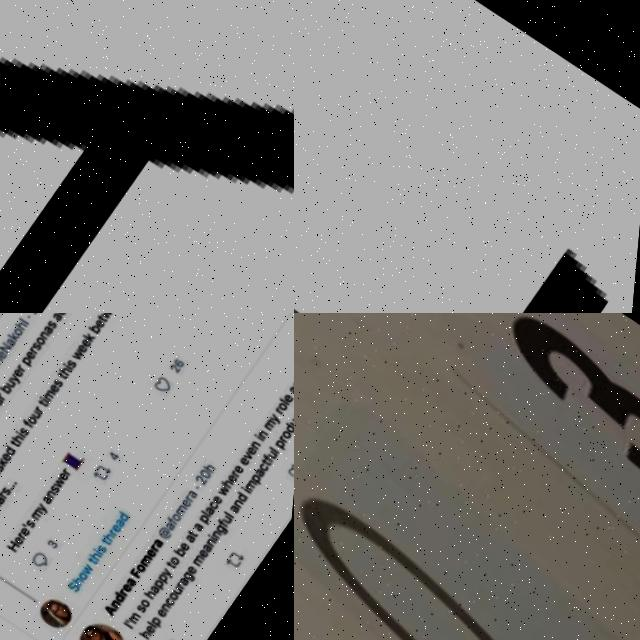0: (294, 452, 640, 640), (203, 465, 218, 477)
2: (200, 471, 214, 482), (172, 361, 185, 371)
3: (428, 313, 640, 531), (53, 536, 67, 548)
4: (113, 448, 125, 459)
6: (176, 355, 188, 366)
A: (0, 0, 294, 313)
L: (294, 0, 640, 313)
